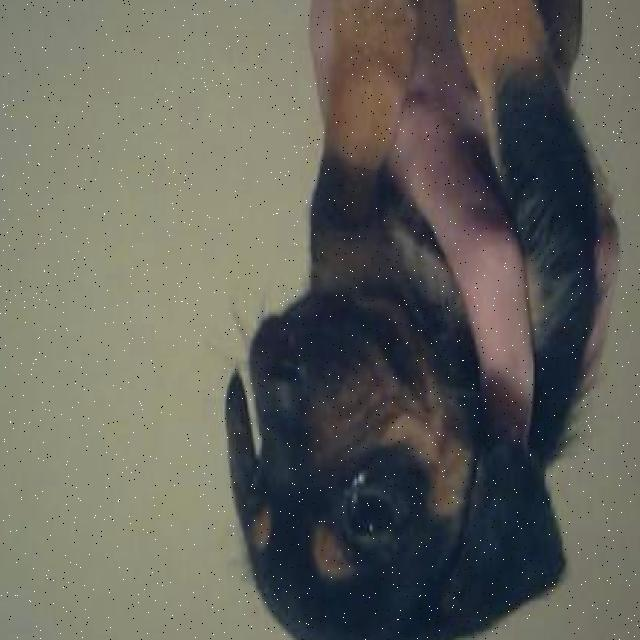Dog: (220, 253, 607, 640)
